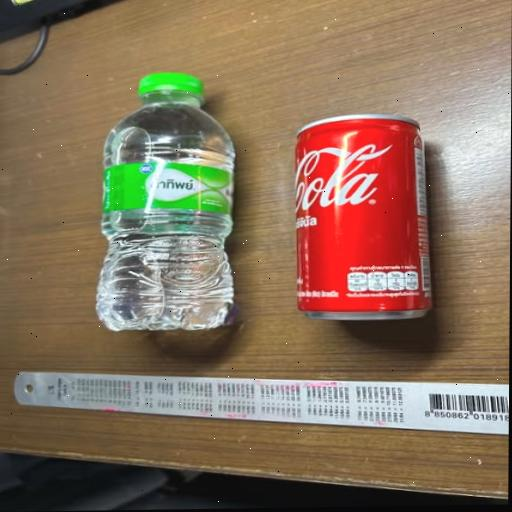bottle: (67, 50, 273, 345)
canned: (276, 93, 470, 338)
